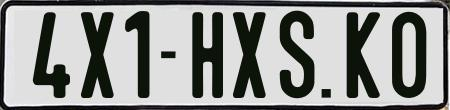0: (392, 12, 429, 103)
1: (123, 9, 152, 97)
4: (30, 10, 70, 101)
H: (190, 10, 225, 97)
K: (346, 10, 383, 97)
S: (278, 9, 314, 97)
X: (233, 10, 267, 102), (79, 11, 113, 102)
